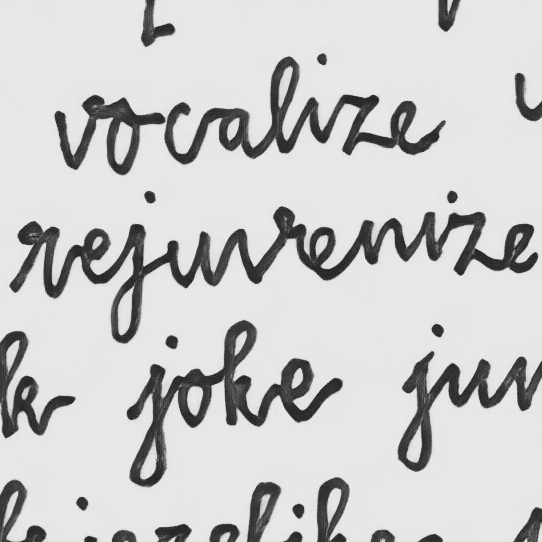e: (78, 226, 115, 287), (305, 221, 342, 282), (501, 219, 539, 275)
i: (415, 207, 441, 263)
j: (105, 189, 159, 344)
n: (357, 215, 410, 268)
r: (8, 219, 63, 300)
u: (165, 228, 211, 289)
v: (232, 221, 289, 287)
z: (443, 209, 495, 277)
